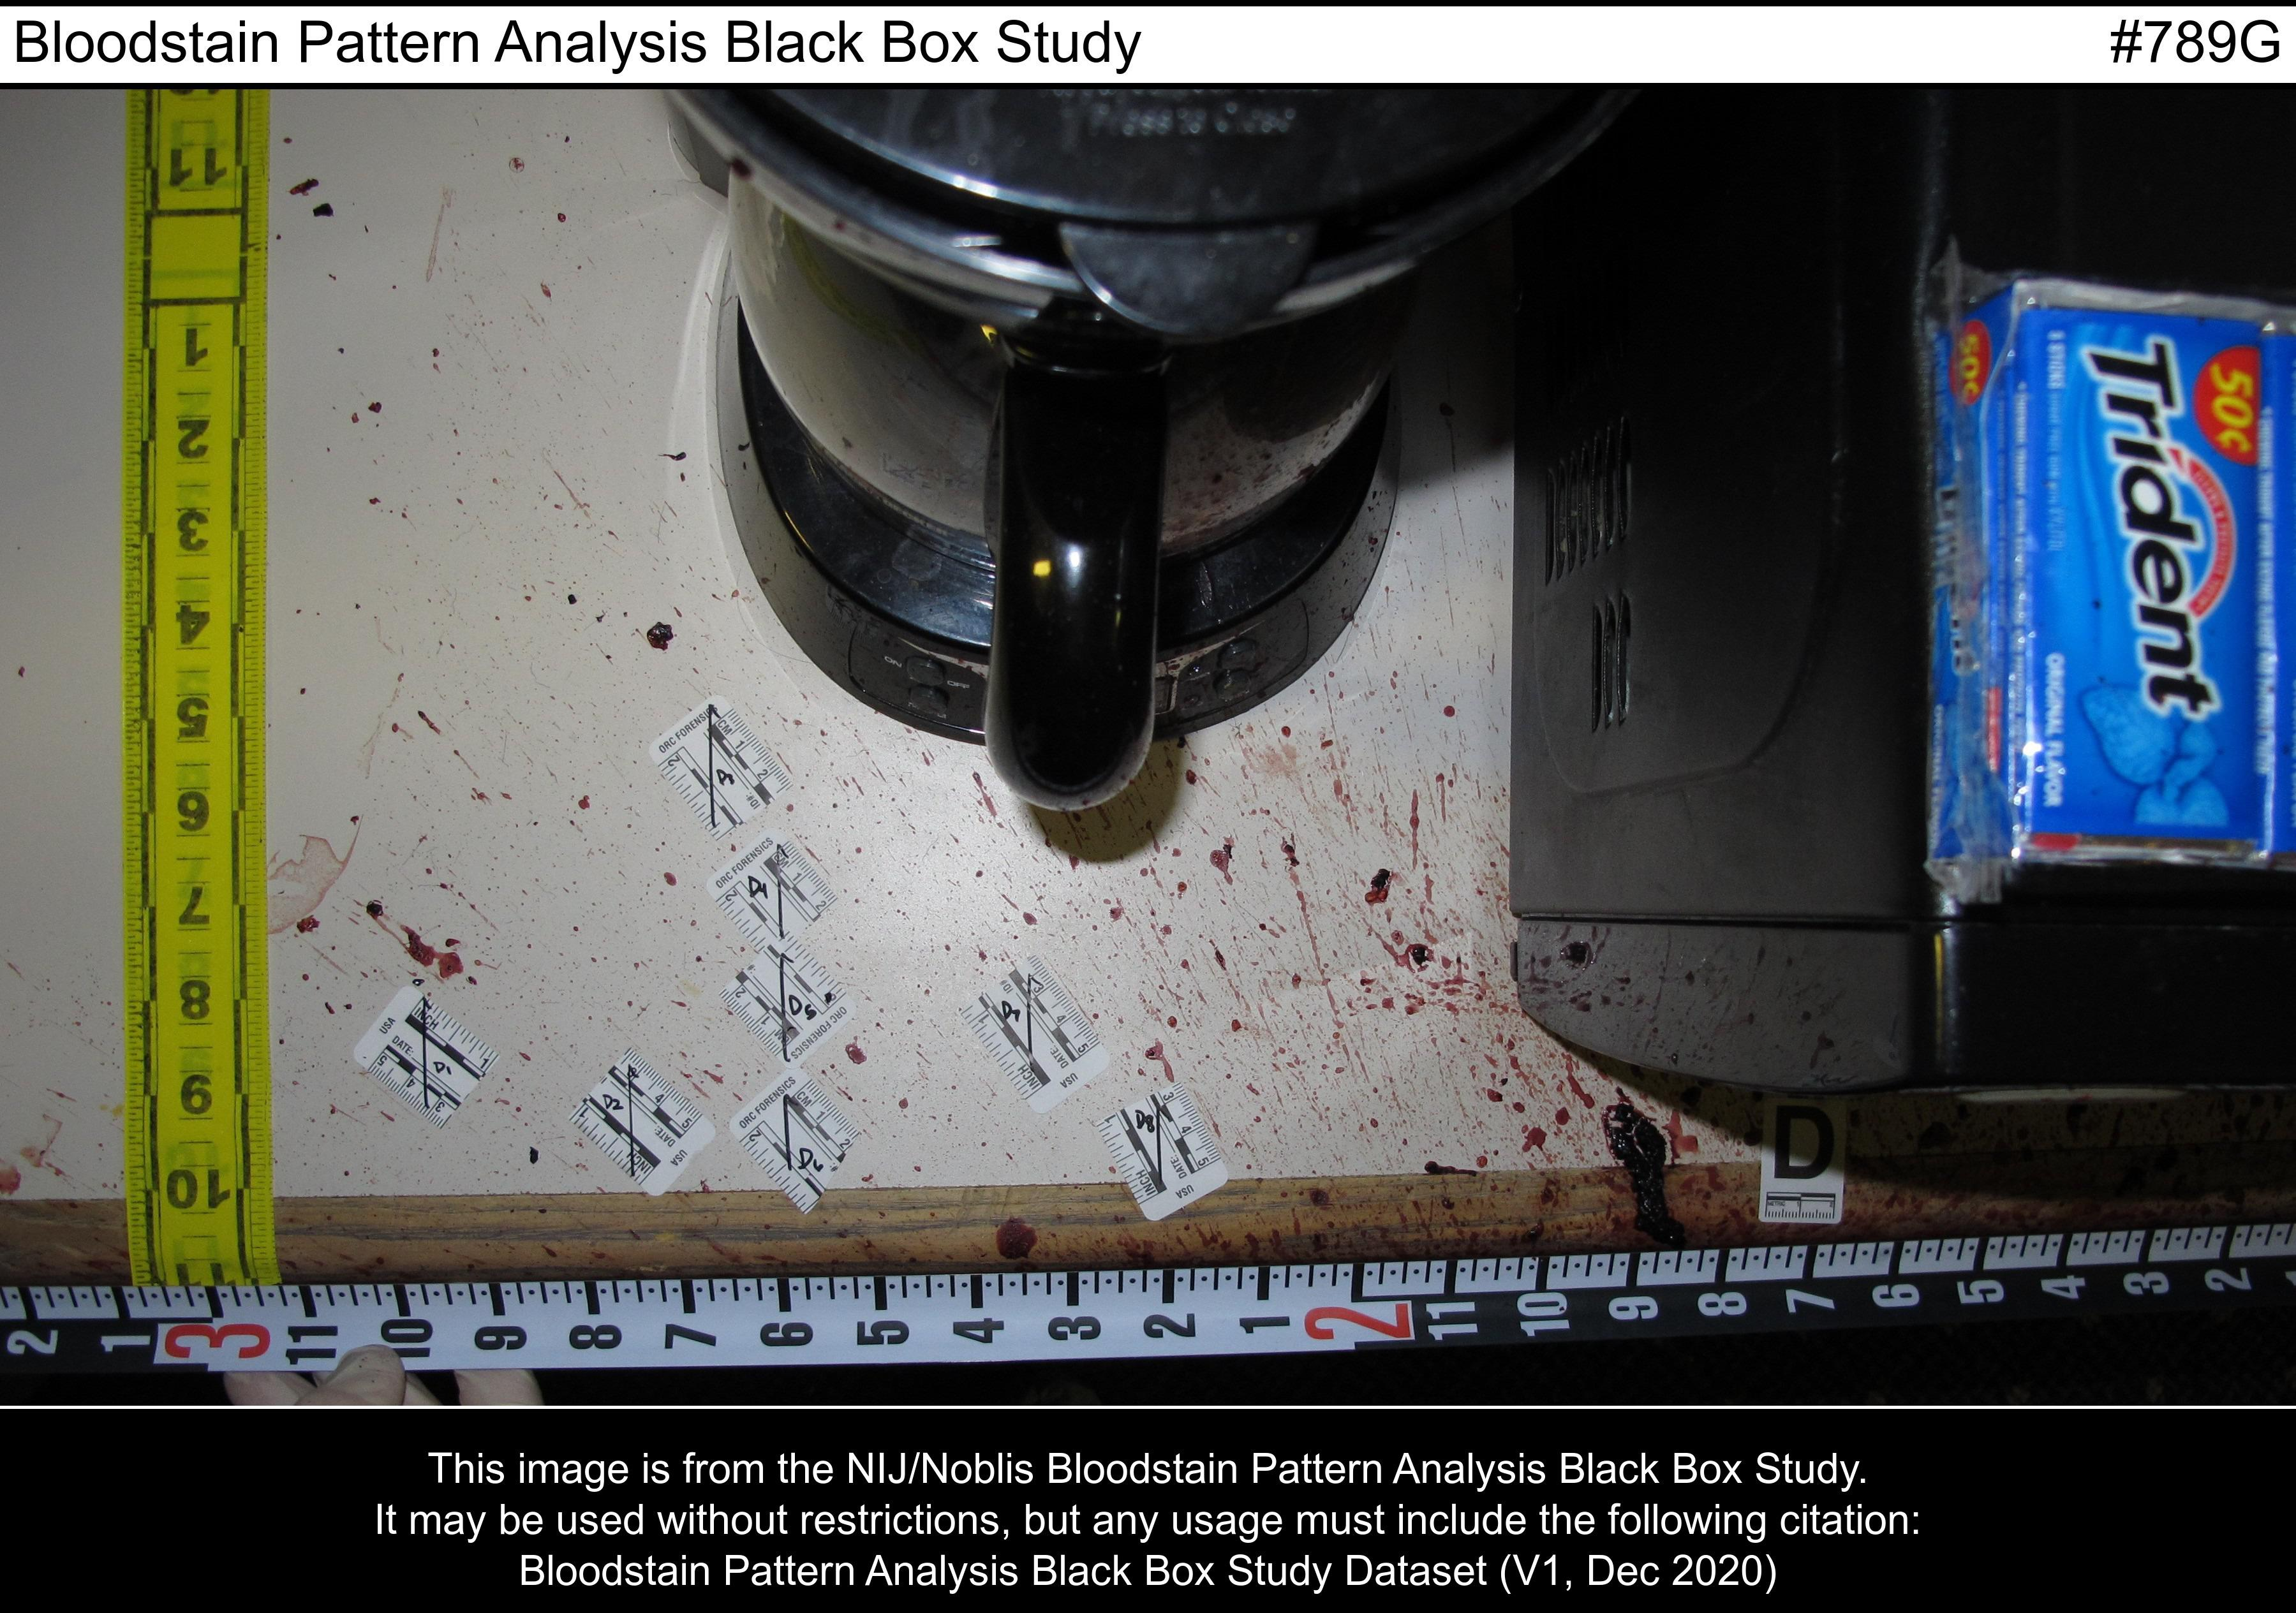Impact: (1133, 683, 1723, 1241), (293, 157, 581, 436), (276, 854, 540, 1011), (0, 1084, 122, 1281), (578, 571, 754, 704), (941, 1196, 1056, 1267)
